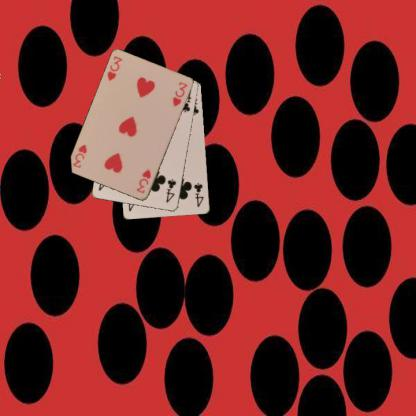3h: (134, 167, 153, 195), (105, 54, 123, 82)
4c: (164, 176, 178, 204), (192, 180, 205, 208)
